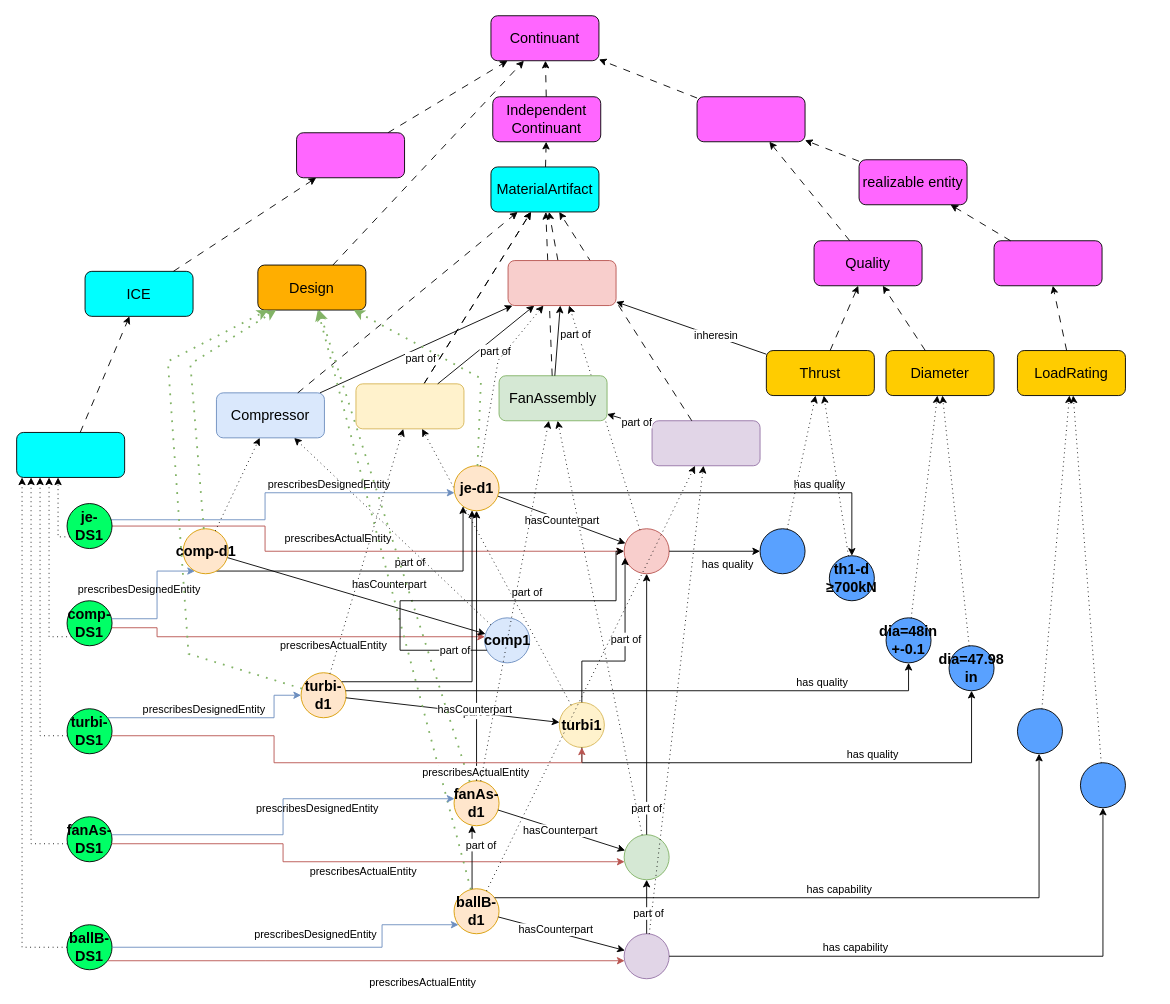
The diagram is 1170 pixels wide and 1004 high, and some of its shapes have lost their labels. Here are the shapes that lost their labels. From the top down, the box of each, then its label:
(696, 96, 805, 142): Specifically Dependent Continuant
(296, 132, 405, 178): Generically Dependent Continuant
(507, 260, 616, 306): Jet engine
(993, 240, 1102, 286): Capability
(355, 383, 464, 429): Turbine
(16, 432, 125, 477): Design Specification
(651, 420, 760, 466): BallBearing
(623, 528, 669, 574): je1
(759, 528, 805, 574): th1= 710kN
(1017, 708, 1062, 754): IoadRr>=0.915kN
(1080, 762, 1125, 808): loadR=0.925kN
(623, 834, 669, 880): fanAs1
(623, 933, 669, 979): ballB1
